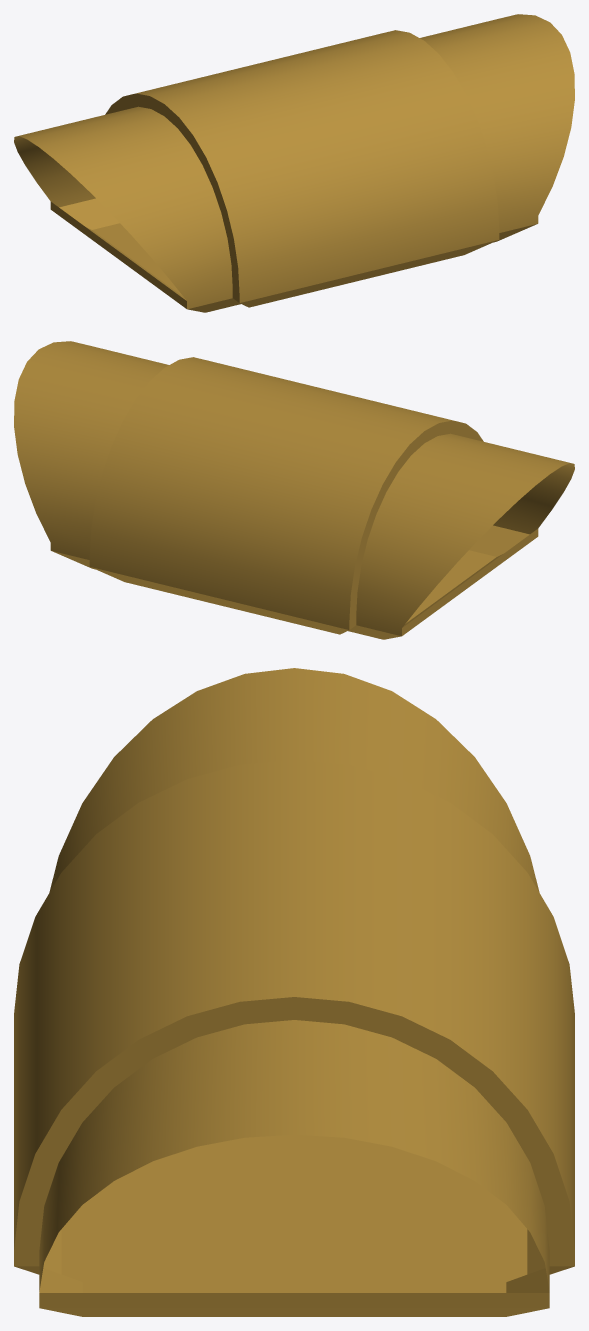
Rendered from alarm.glb.
The picture shows the model from 3 angles, top to bottom: view 1: azimuth 30°, elevation 25°; view 2: azimuth 150°, elevation 25°; view 3: azimuth 270°, elevation 25°; orthographic projection. The views are drawn at different scales.
Visible parts, largest first — view 1: Cylinder; view 2: Cylinder; view 3: Cylinder.
Part boxes in pixels (x1=…): Cylinder: x1=14, y1=14, x2=574, y2=312; Cylinder: x1=14, y1=341, x2=574, y2=639; Cylinder: x1=14, y1=668, x2=574, y2=1316.
Bounding box in the file's own units: 2.96 × 0.9052 × 1.51.
